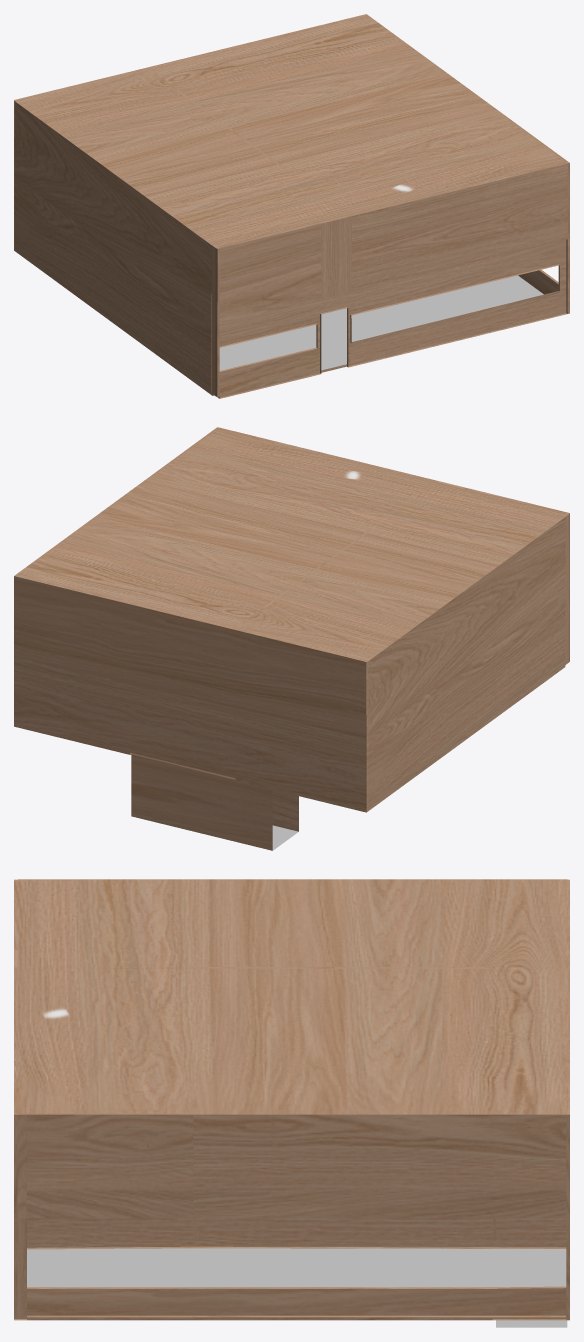
File: Endelighus.fbx
3 views of the same model, one above another, from view 1: azimuth 30°, elevation 25°; view 2: azimuth 150°, elevation 25°; view 3: azimuth 270°, elevation 25° (orthographic). The views are drawn at different scales.
Parts seen in each view (by area): view 1: HUS; view 2: HUS; view 3: HUS.
Part boxes in pixels (x1,y1,x2,y2): HUS: [14, 14, 569, 398]; HUS: [14, 427, 569, 850]; HUS: [14, 879, 569, 1327].
Size of the model in its own units: 7651 by 4400 by 7632.
